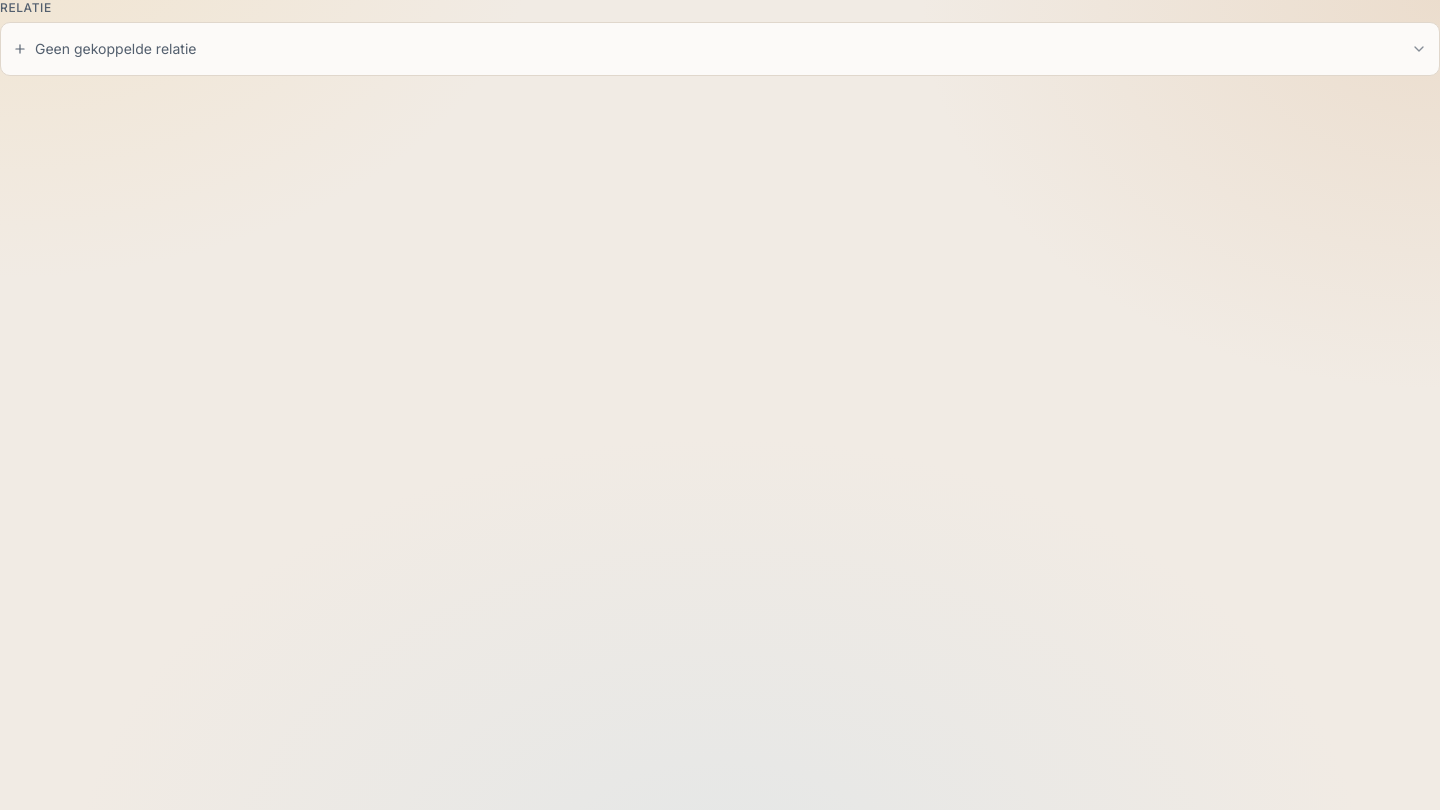
Test: EntityPicker — PII-policy (Fase 1C-1) › toont naam en bedrijfsnaam in zichtbare labels
Click the button with aria-label "Kiezen" at (116,48), box [5,27,1435,71]
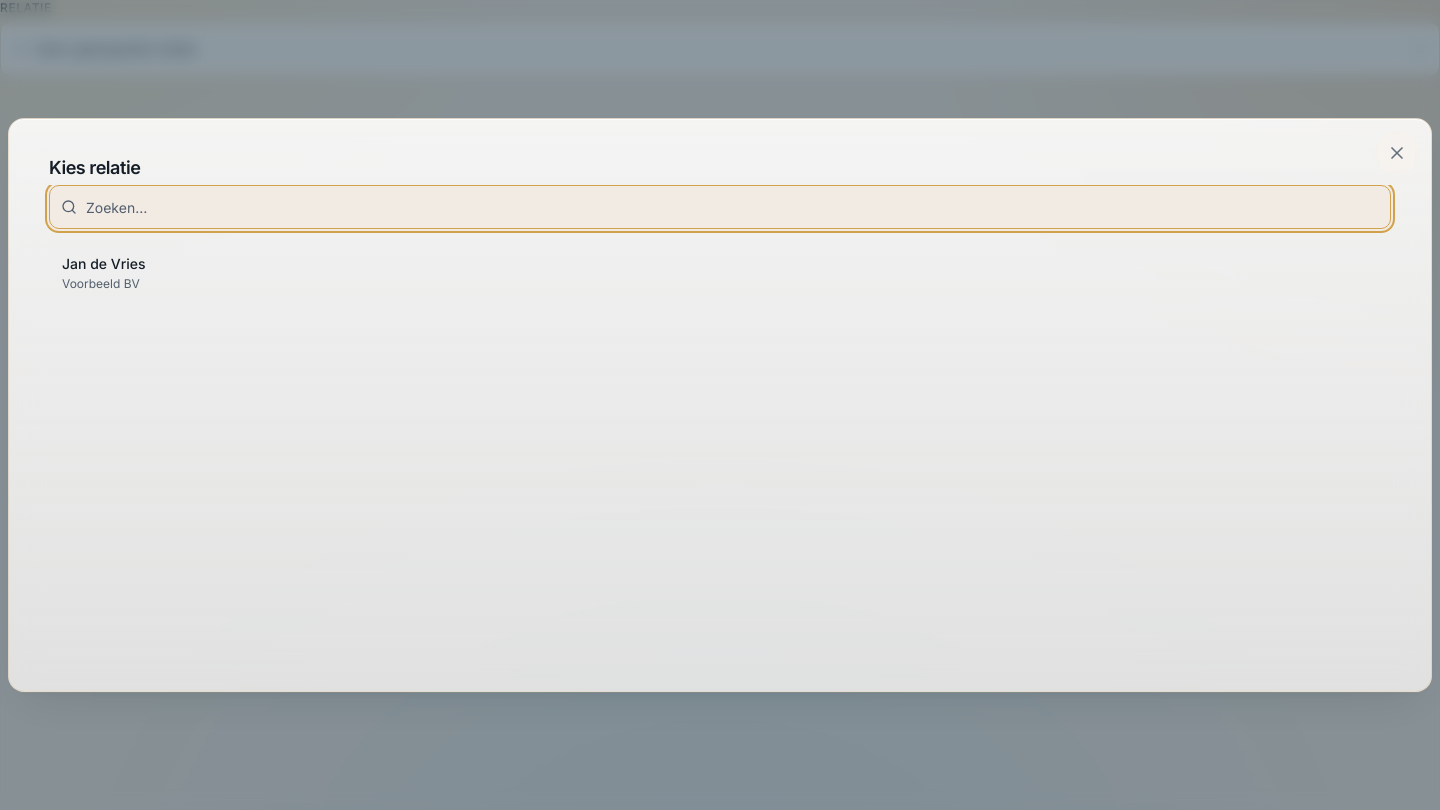
expect the text "Jan de Vries" is shown: met, box [62,255,146,272]
expect the text "Voorbeeld BV" is shown: met, box [62,276,140,291]
expect the dialog "Kies relatie Jan de Vries Voorbeeld BV" is shown: met
